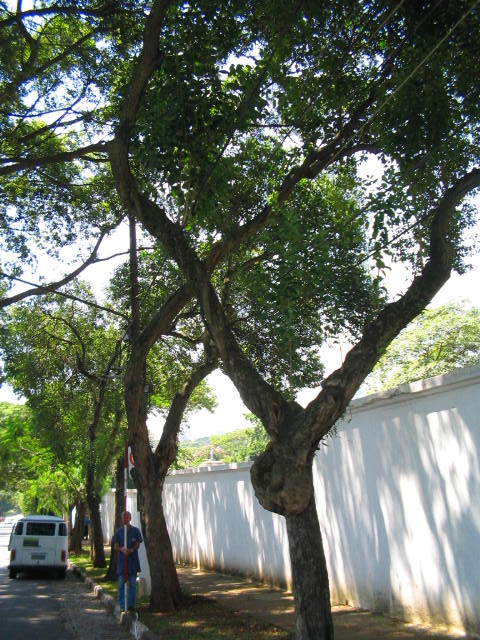crown: (4, 14, 388, 392)
stem: (241, 438, 360, 639), (130, 466, 202, 610)
stick: (118, 438, 132, 613)
tree: (1, 10, 390, 610)
